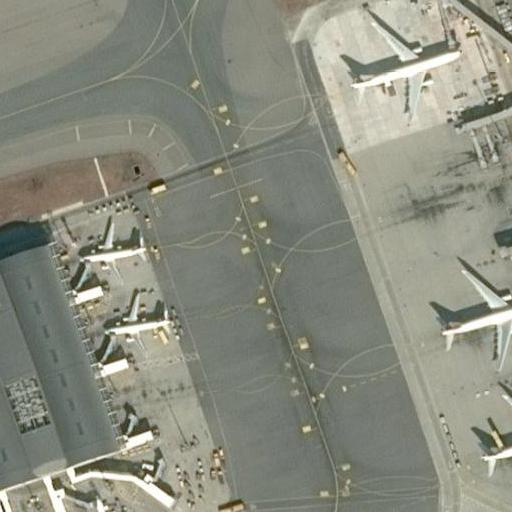Aircraft: (337, 0, 462, 118), (424, 247, 512, 360), (72, 211, 150, 276), (469, 379, 512, 494), (101, 287, 174, 352), (73, 491, 138, 512)
